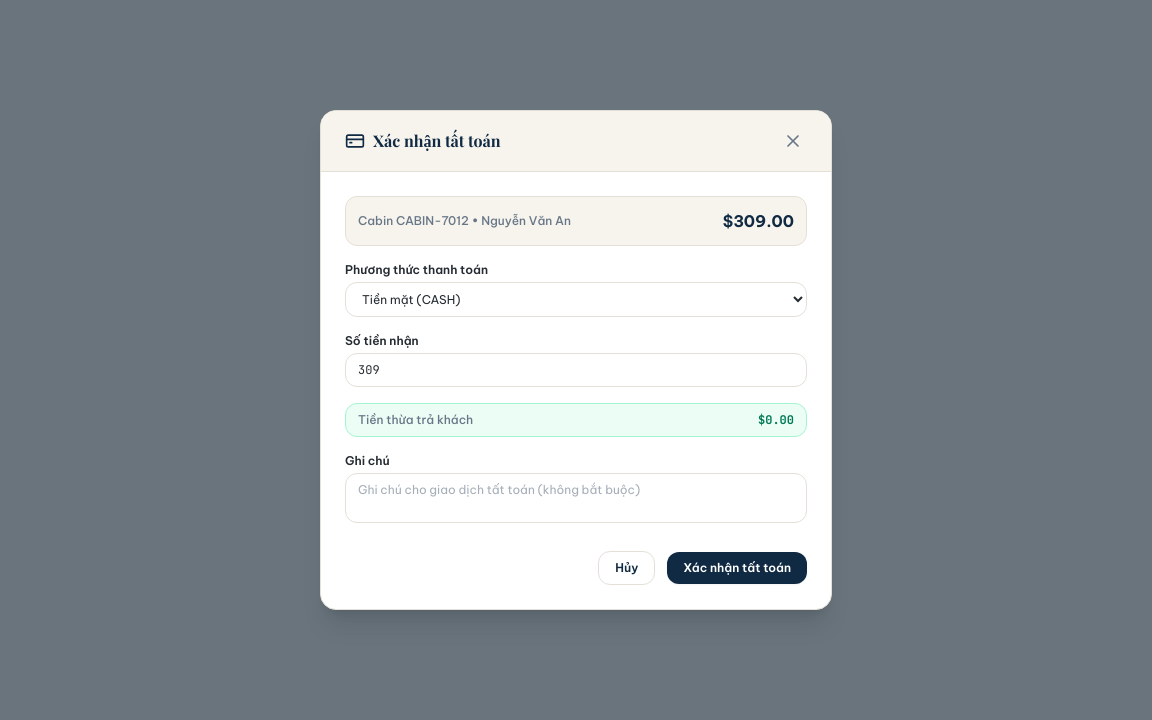
Scenario: PaymentCaptureModal › defaults the tendered amount to the net amount due and computes change
This screenshot has width=1152, height=720.
Expected: the text "$0.00" is shown, top-left (758, 412), bottom-right (794, 428)
Replace the text in the number field labelled "Số tiền nhận" with "400" at (576, 370), box top-left (345, 353), bottom-right (807, 387)
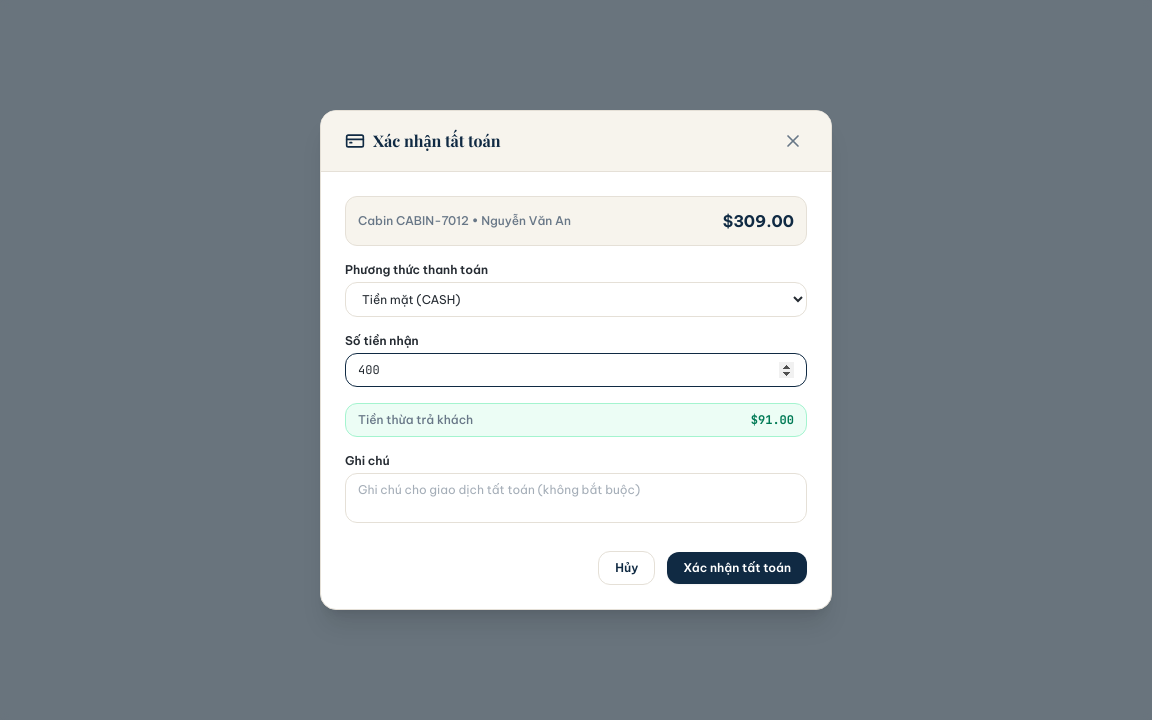
Now the text "$91.00" is shown, box top-left (751, 412), bottom-right (794, 428)
